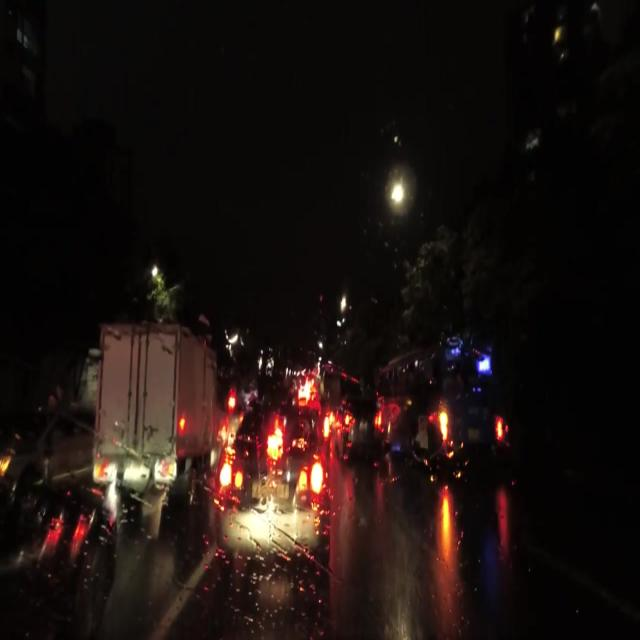Car: (4, 475, 110, 639), (215, 416, 328, 565), (4, 404, 97, 488), (335, 393, 385, 450)
